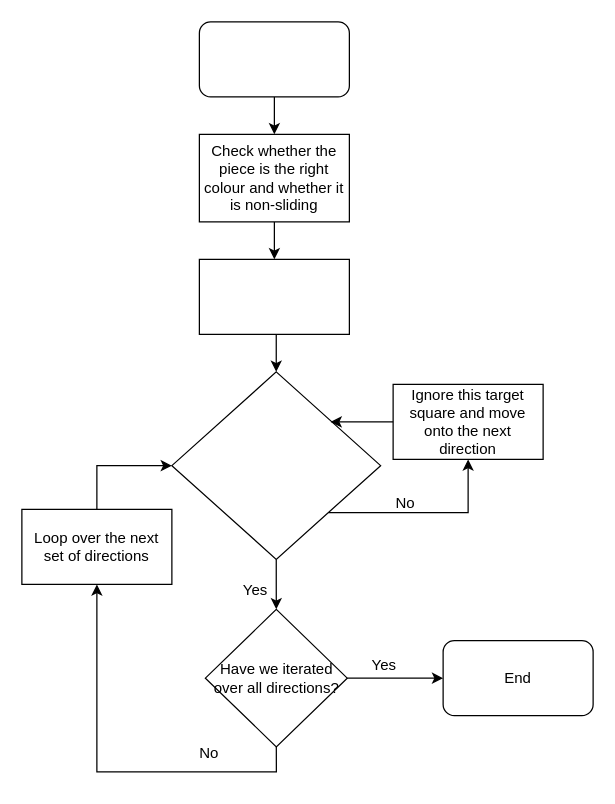
This 615x804 diagram has some shape labels left out. Here are the shapes that lost their labels. From the top down, the centre of each, then its label:
At [273,59]: "Start".
At [273,296]: "Check what type of piece it is and loop over the directions the piece can move".
At [276,465]: "Have we reached the edge or is another piece blocking our target square?".
